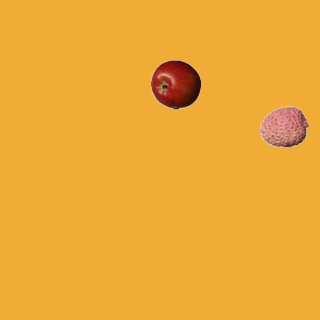Apple Braeburn: (150, 59, 200, 109)
Lychee: (259, 101, 309, 151)
